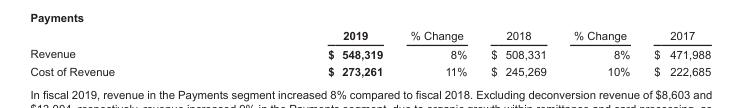table: (29, 29, 710, 77)
table column: (29, 29, 220, 77), (220, 29, 395, 77), (395, 29, 478, 77), (559, 29, 641, 77), (478, 29, 559, 77), (641, 29, 710, 77)
table column header: (29, 29, 710, 44)
table row: (29, 44, 710, 62), (29, 29, 710, 44), (29, 62, 710, 77)
